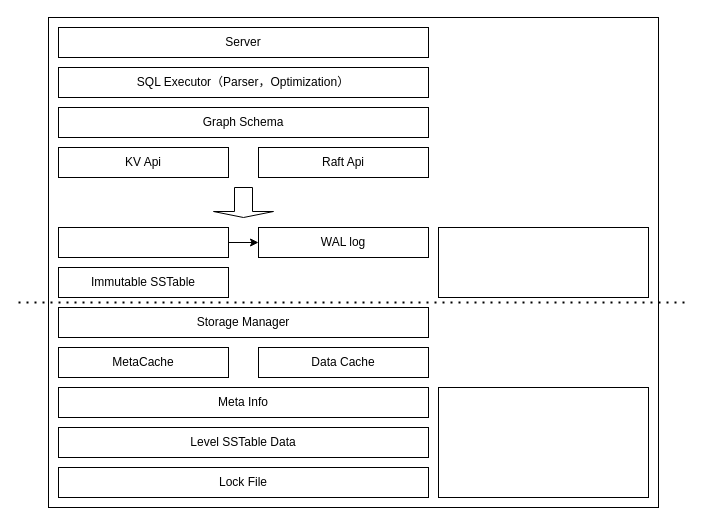
Image size: 707x525. Some labels were removed from this diagram. Each missing label, with the centre of its shape:
"Compaction" goes at pixel 543 442.
"Crash Handler" goes at pixel 543 262.
"MemTable" goes at pixel 143 242.
